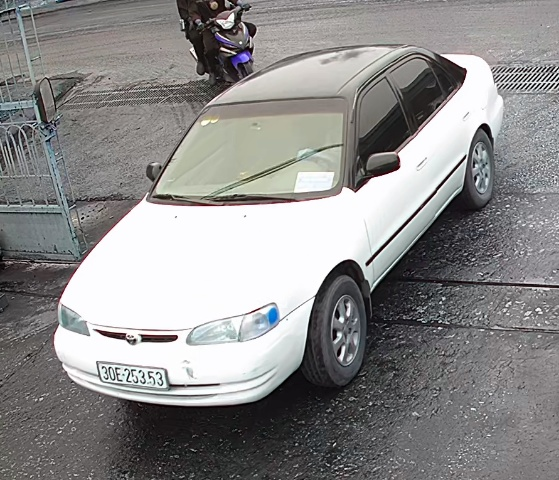vehicle plate: (92, 357, 176, 394)
